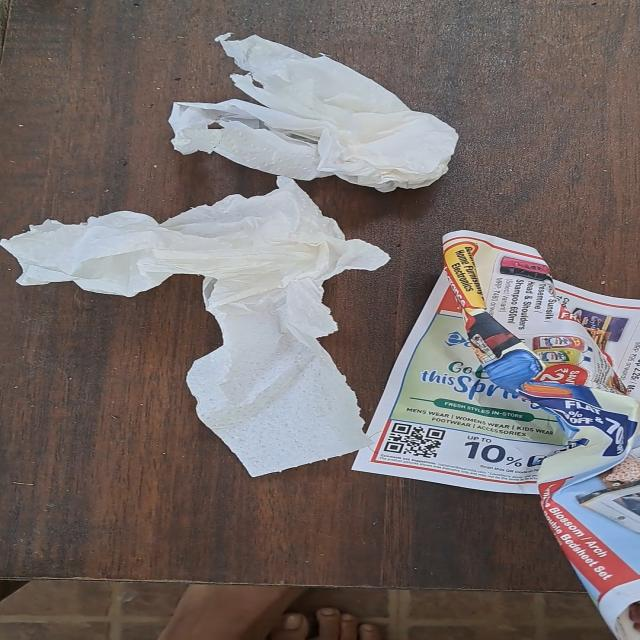Organik: (340, 221, 640, 640), (0, 176, 400, 482), (160, 25, 477, 193)
